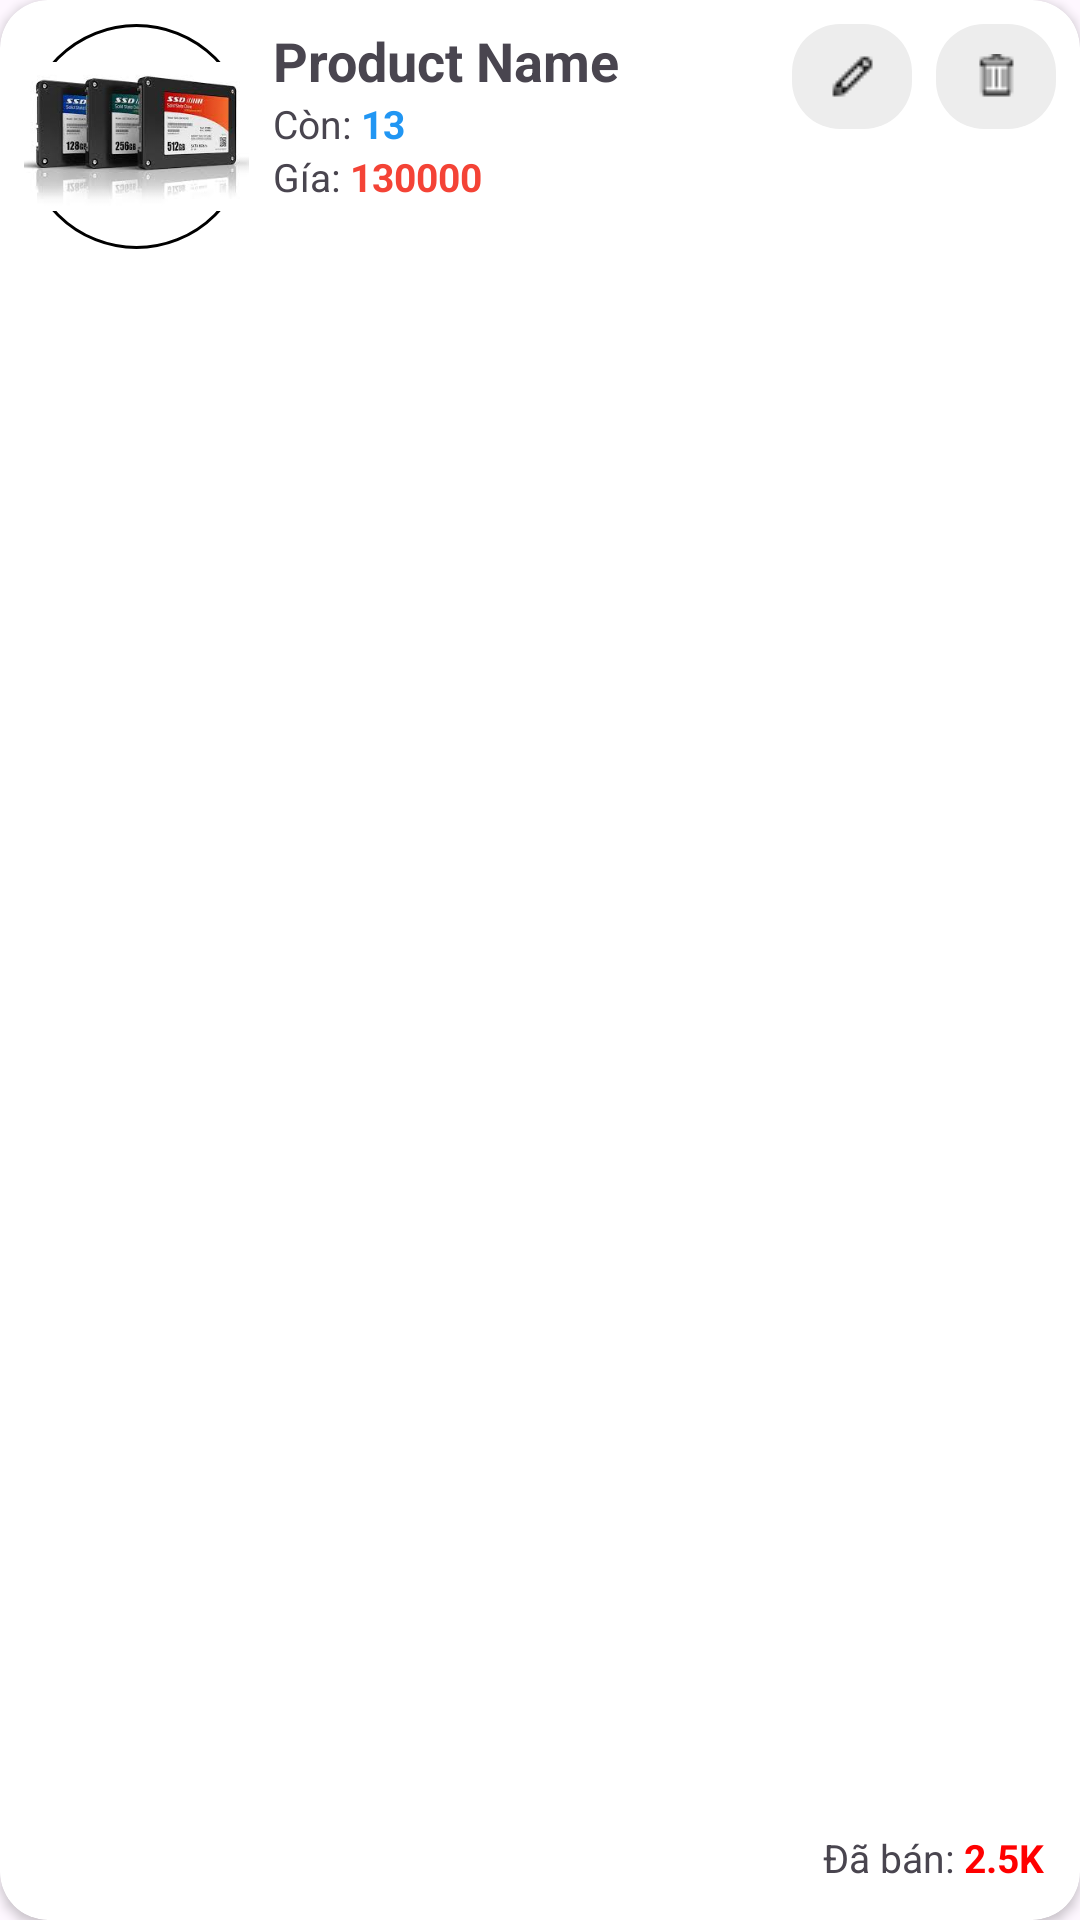

Icon bounding boxes for this 1080×1920 phone screenshot, format region(x1, y1, x2, y2):
del: region(979, 54, 1014, 97)
edit: region(832, 56, 873, 97)
